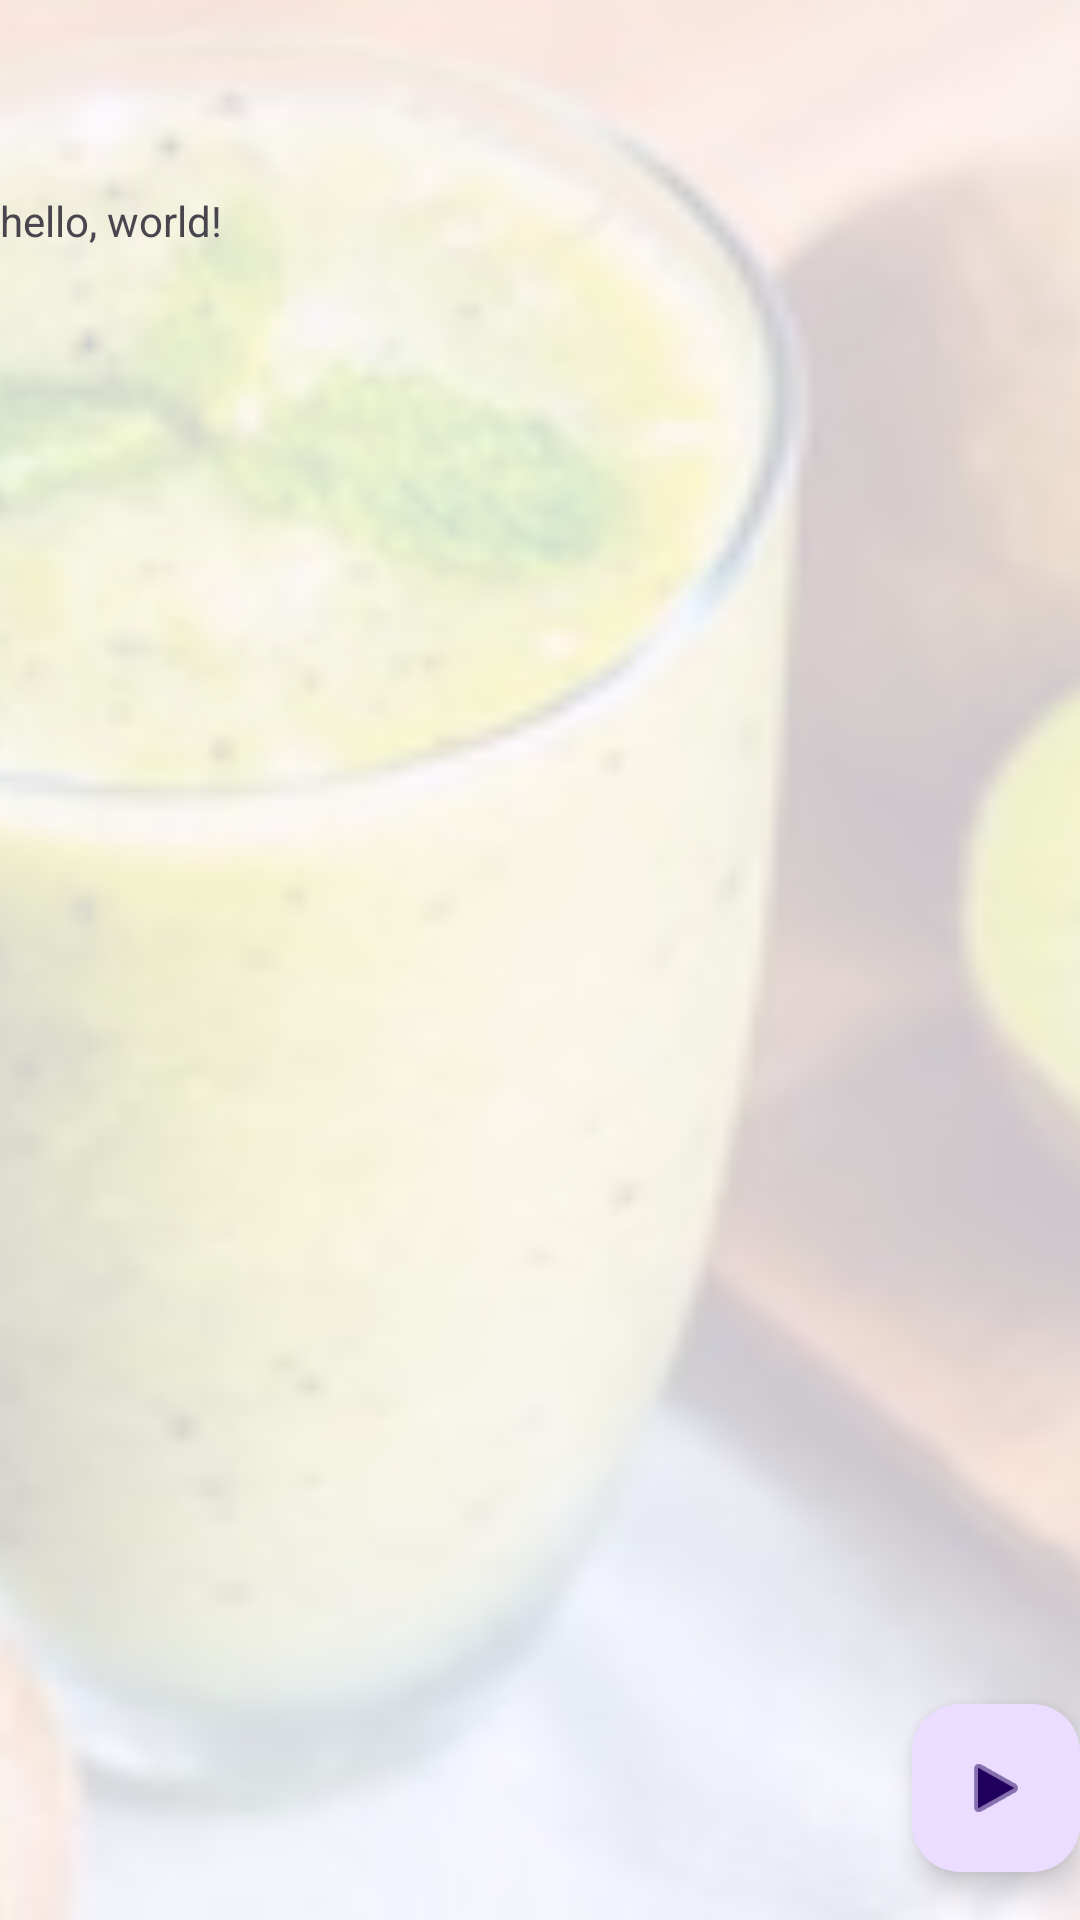

Named icons in this screenshot (1080px×1920px) and their bounding boxes, (x1, y1, x2, y2):
play: (974, 1764, 1018, 1812)
